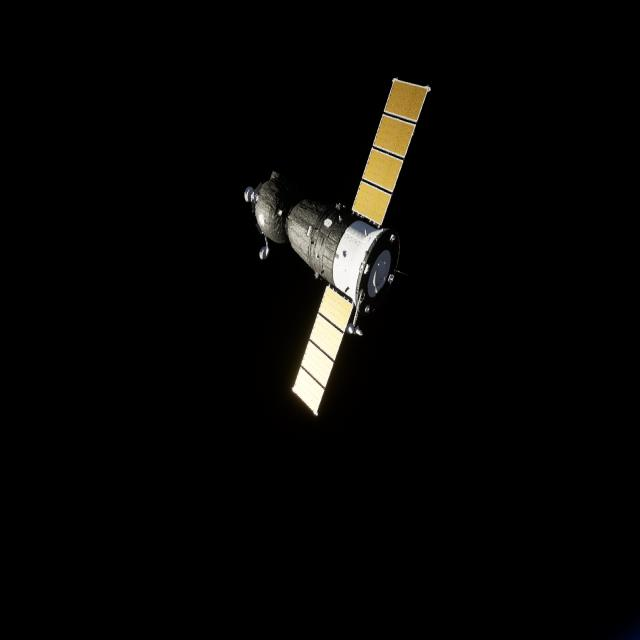Satellites revolving around earth: (242, 75, 432, 419)
